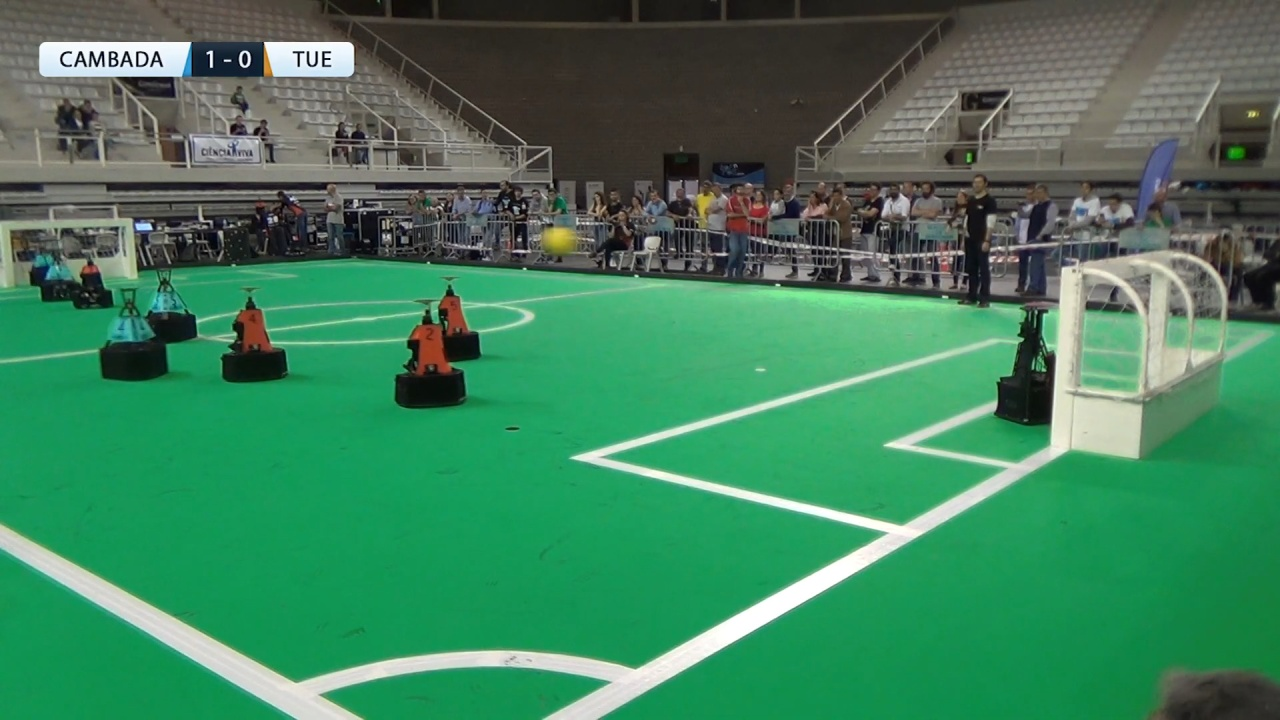BALL: (538, 227, 580, 259)
BLUE3: (147, 265, 208, 343)
BLUE4: (99, 296, 164, 382)
B_Goalie: (23, 236, 56, 287)
RED2: (393, 288, 450, 415)
RED3: (80, 249, 106, 311)
RED4: (227, 277, 280, 389)
RED5: (436, 279, 494, 363)
R_Goalie: (995, 297, 1065, 431)
